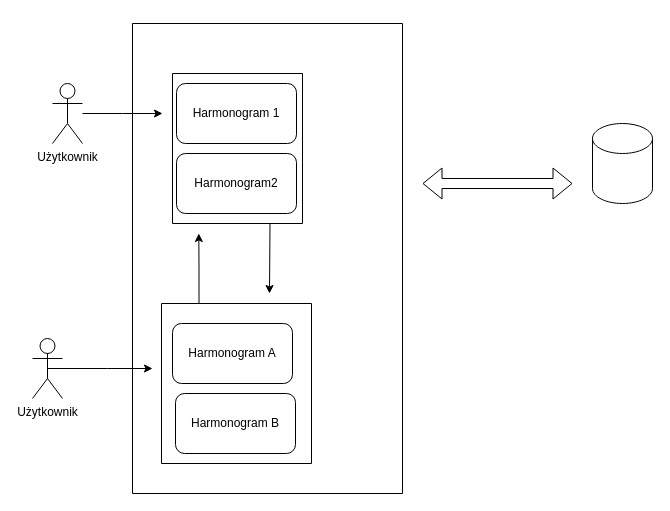
The diagram is 670 pixels wide and 511 high, and some of its shapes have lost their labels. The centre of each missing label's shape, as x and y in pixels:
"Aplikacja" goes at (x=267, y=258).
"BD" goes at (x=622, y=163).
